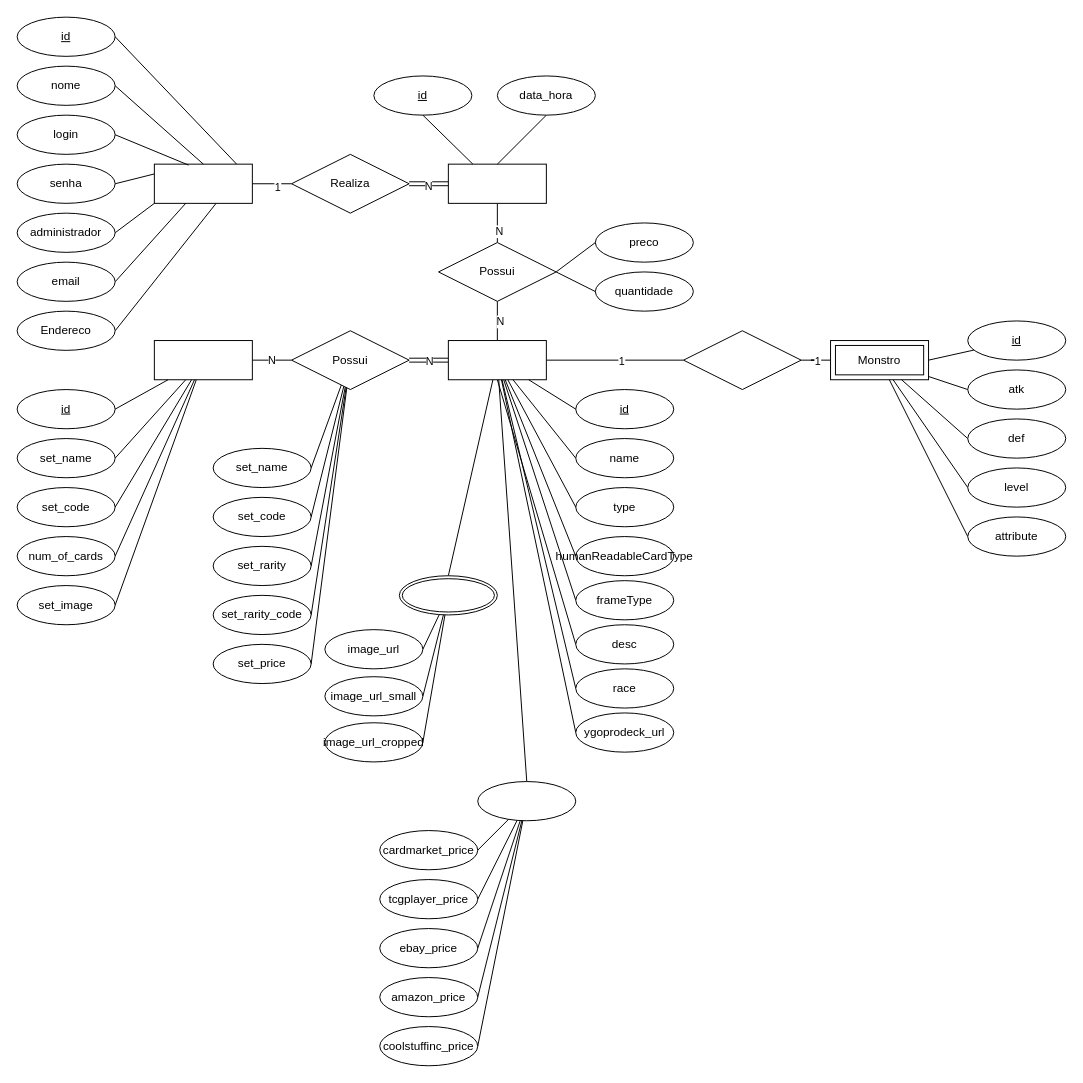
The diagram is 1083 pixels wide and 1083 high, and some of its shapes have lost their labels. The box of each missing label's shape, as (x1, y1, x2, y2) in pixels:
Card: (447, 340, 546, 380)
card_images: (398, 575, 497, 615)
card_prices: (477, 781, 576, 821)
Cardset: (153, 340, 252, 380)
depende: (683, 330, 801, 390)
Usuário: (153, 163, 252, 203)
Venda: (447, 163, 546, 203)
